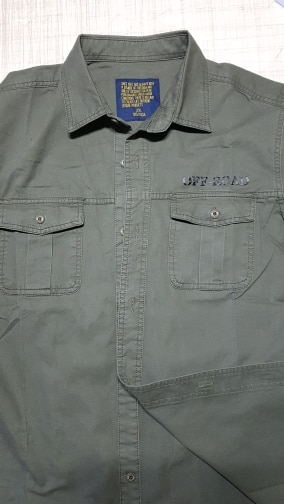shirts: (9, 30, 284, 448)
